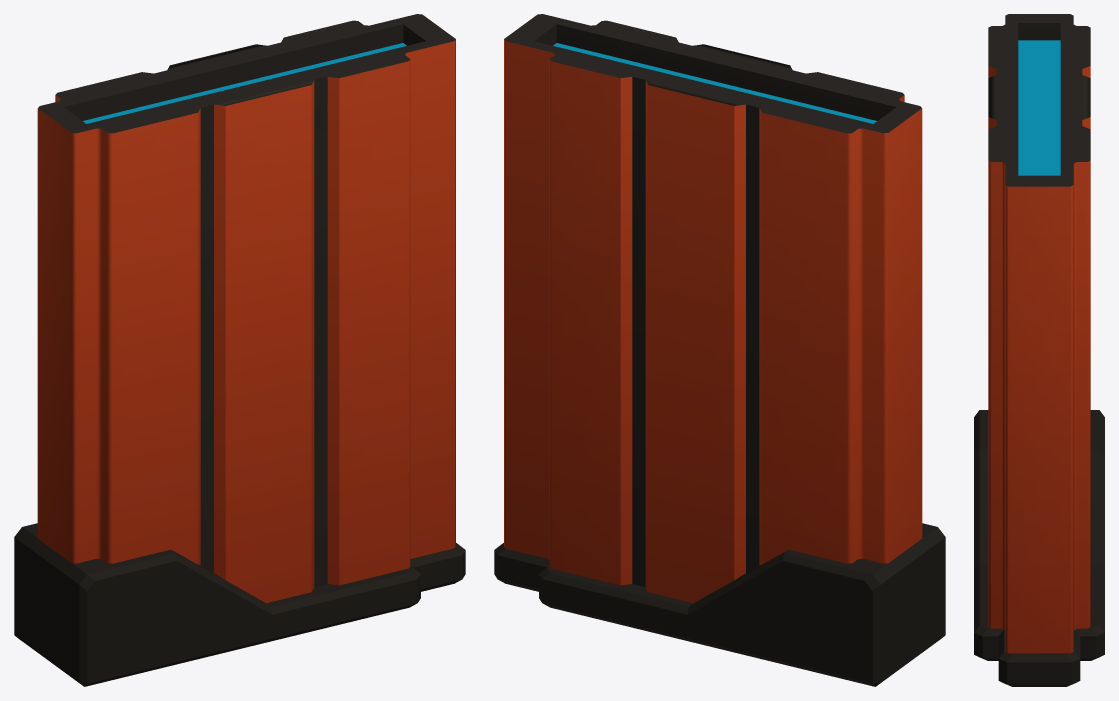
The model's file is Shotgun1_MagazineExtended.fbx.
The picture shows the model from 3 angles, left to right: view 1: azimuth 30°, elevation 25°; view 2: azimuth 150°, elevation 25°; view 3: azimuth 270°, elevation 25°; orthographic projection. The views are drawn at different scales.
Parts seen in each view (by area): view 1: Shotgun1_MagazineExtended; view 2: Shotgun1_MagazineExtended; view 3: Shotgun1_MagazineExtended.
Part boxes in pixels (x1,y1,x2,y2): Shotgun1_MagazineExtended: (14,14,465,686); Shotgun1_MagazineExtended: (494,14,945,686); Shotgun1_MagazineExtended: (974,14,1104,686).
Size of the model in its own units: 11.38 by 14.68 by 3.49.
